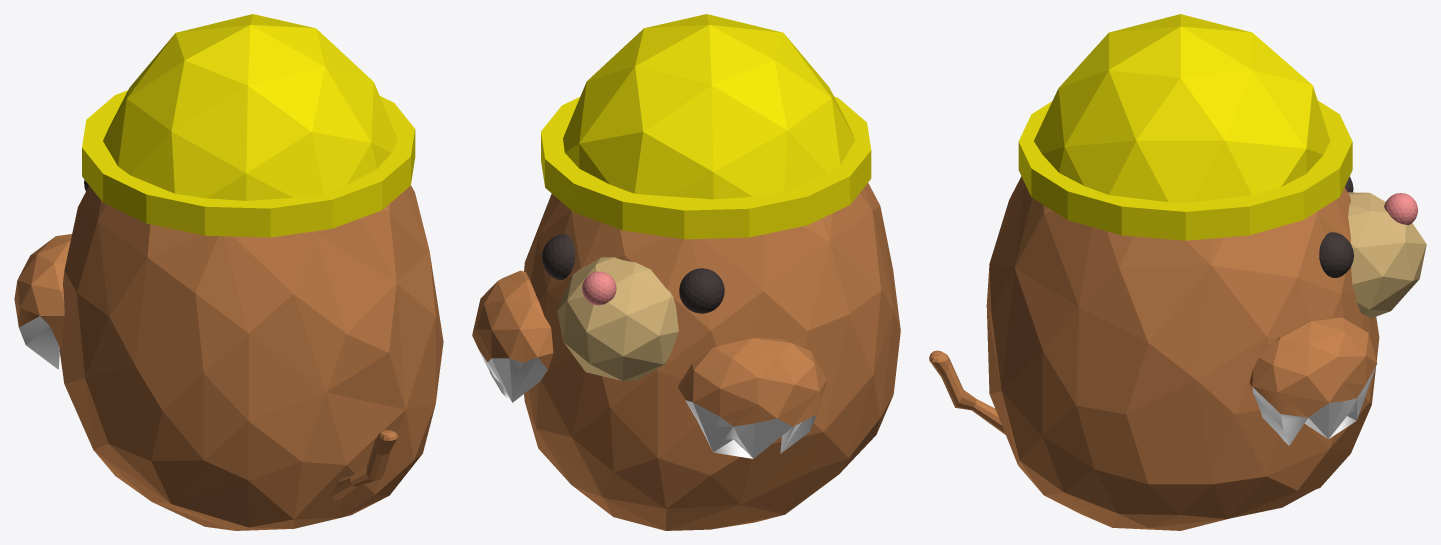
Rendered from MoleNew.fbx.
The picture shows the model from 3 angles, left to right: view 1: azimuth 30°, elevation 25°; view 2: azimuth 150°, elevation 25°; view 3: azimuth 270°, elevation 25°; orthographic projection.
Parts seen in each view (by area): view 1: body, helmet, lefthand, tail; view 2: body, helmet, lefthand, nose, righthand, lefteye, righteye, nosetip; view 3: body, helmet, righthand, nose, tail, righteye, nosetip.
Boxes of the visible parts, bbox=[...] form: body: bbox=[59, 185, 443, 530]; helmet: bbox=[82, 14, 415, 237]; lefthand: bbox=[14, 234, 71, 369]; tail: bbox=[332, 430, 398, 500]; body: bbox=[524, 183, 900, 530]; helmet: bbox=[541, 14, 871, 239]; lefthand: bbox=[678, 337, 827, 458]; nose: bbox=[557, 257, 678, 381]; righthand: bbox=[472, 270, 553, 402]; lefteye: bbox=[679, 268, 724, 313]; righteye: bbox=[542, 234, 575, 279]; nosetip: bbox=[582, 271, 616, 305]; body: bbox=[986, 176, 1379, 530]; helmet: bbox=[1018, 14, 1352, 240]; righthand: bbox=[1249, 317, 1377, 445]; nose: bbox=[1348, 192, 1426, 318]; tail: bbox=[929, 350, 1005, 434]; righteye: bbox=[1319, 232, 1353, 277]; nosetip: bbox=[1384, 193, 1417, 225].
Size of the model in its own units: 198 by 265 by 250.
